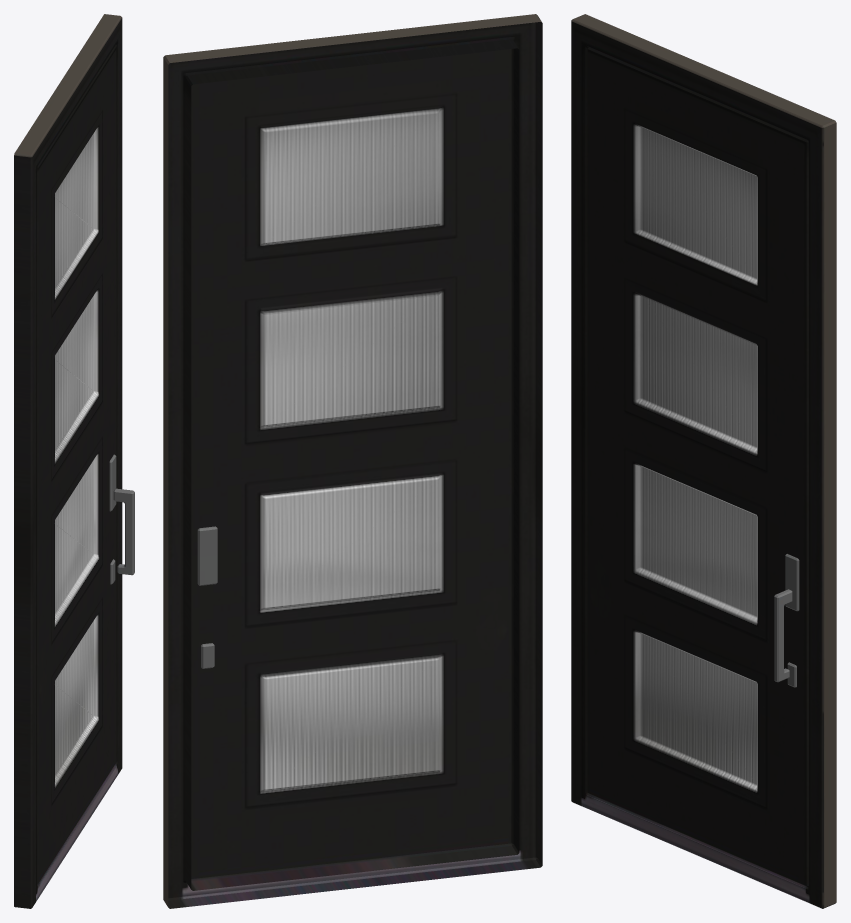
Rendered from door1.fbx.
3 views of the same model, side by side, from view 1: azimuth 30°, elevation 25°; view 2: azimuth 150°, elevation 25°; view 3: azimuth 270°, elevation 25° (orthographic). The views are drawn at different scales.
Visible parts, largest first — view 1: DOOR_1, FRAME_1; view 2: DOOR_1, FRAME_1; view 3: DOOR_1, FRAME_1.
Boxes of the visible parts, x1,y1,x2,y2 form: DOOR_1: (37,45,134,883); FRAME_1: (14,14,122,908); DOOR_1: (185,39,518,889); FRAME_1: (163,14,542,908); DOOR_1: (587,47,808,886); FRAME_1: (571,14,836,908).
Size of the model in its own units: 0.00603 by 0.0195 by 0.00598.
